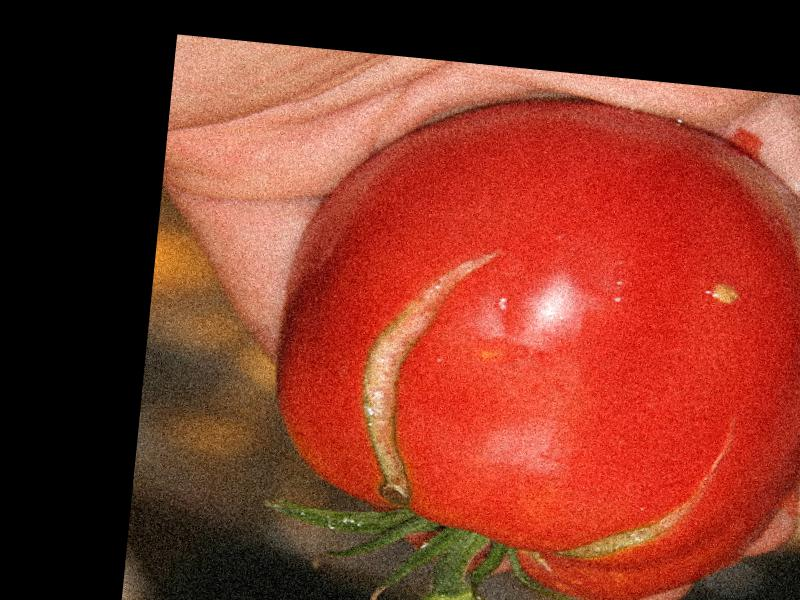Tomato: (264, 74, 800, 600)
